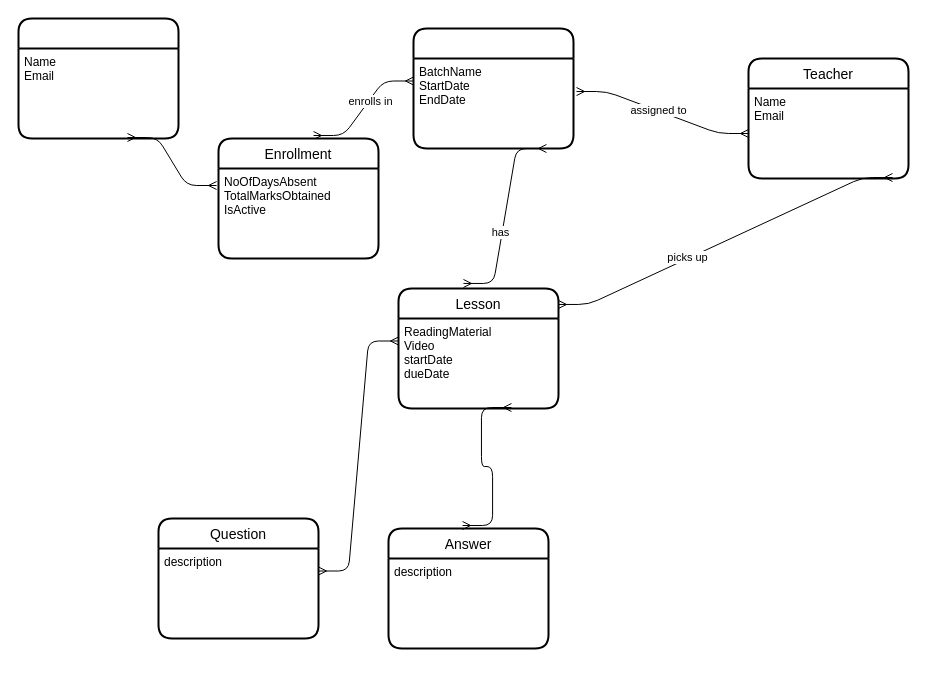
This 926x674 diagram has some shape labels left out. The shapes that lost their labels are listed below. From the top down, each one's box as (x1, y1, x2, y2) in pixels, then its label:
(17, 17, 179, 139): Student
(412, 27, 574, 149): Class/Section
